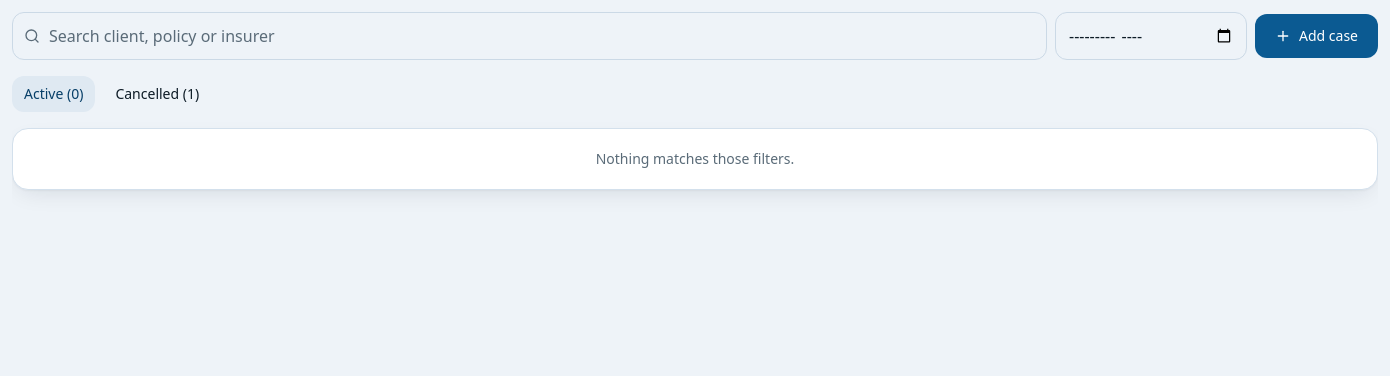
case list › shows the cancellation reason on a cancelled case
The image size is (1390, 376).
Click the button "Cancelled (1)": [157, 94] box [103,76,211,112]
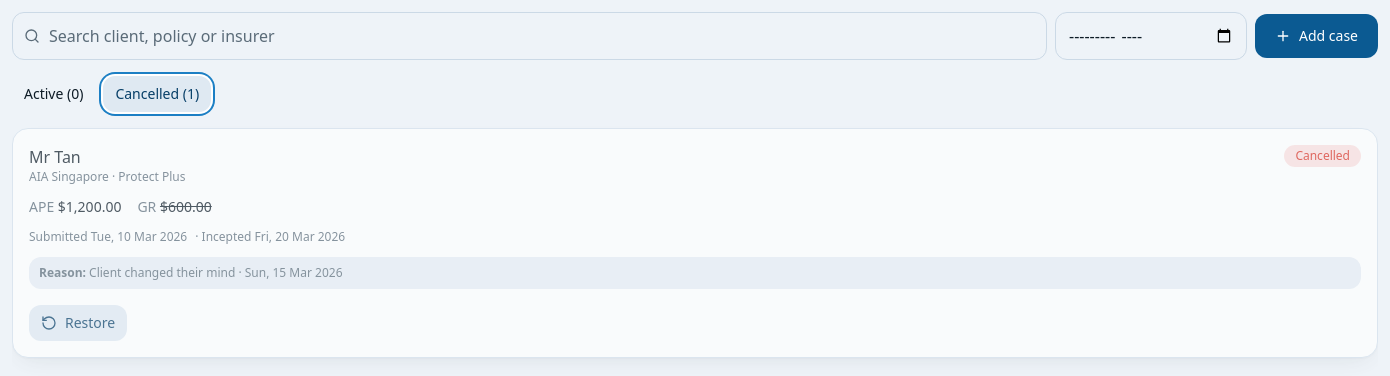
Result: the text "Reason: Client changed their mind · Sun, 15 Mar 2026" is shown at [29,257,1361,289]
